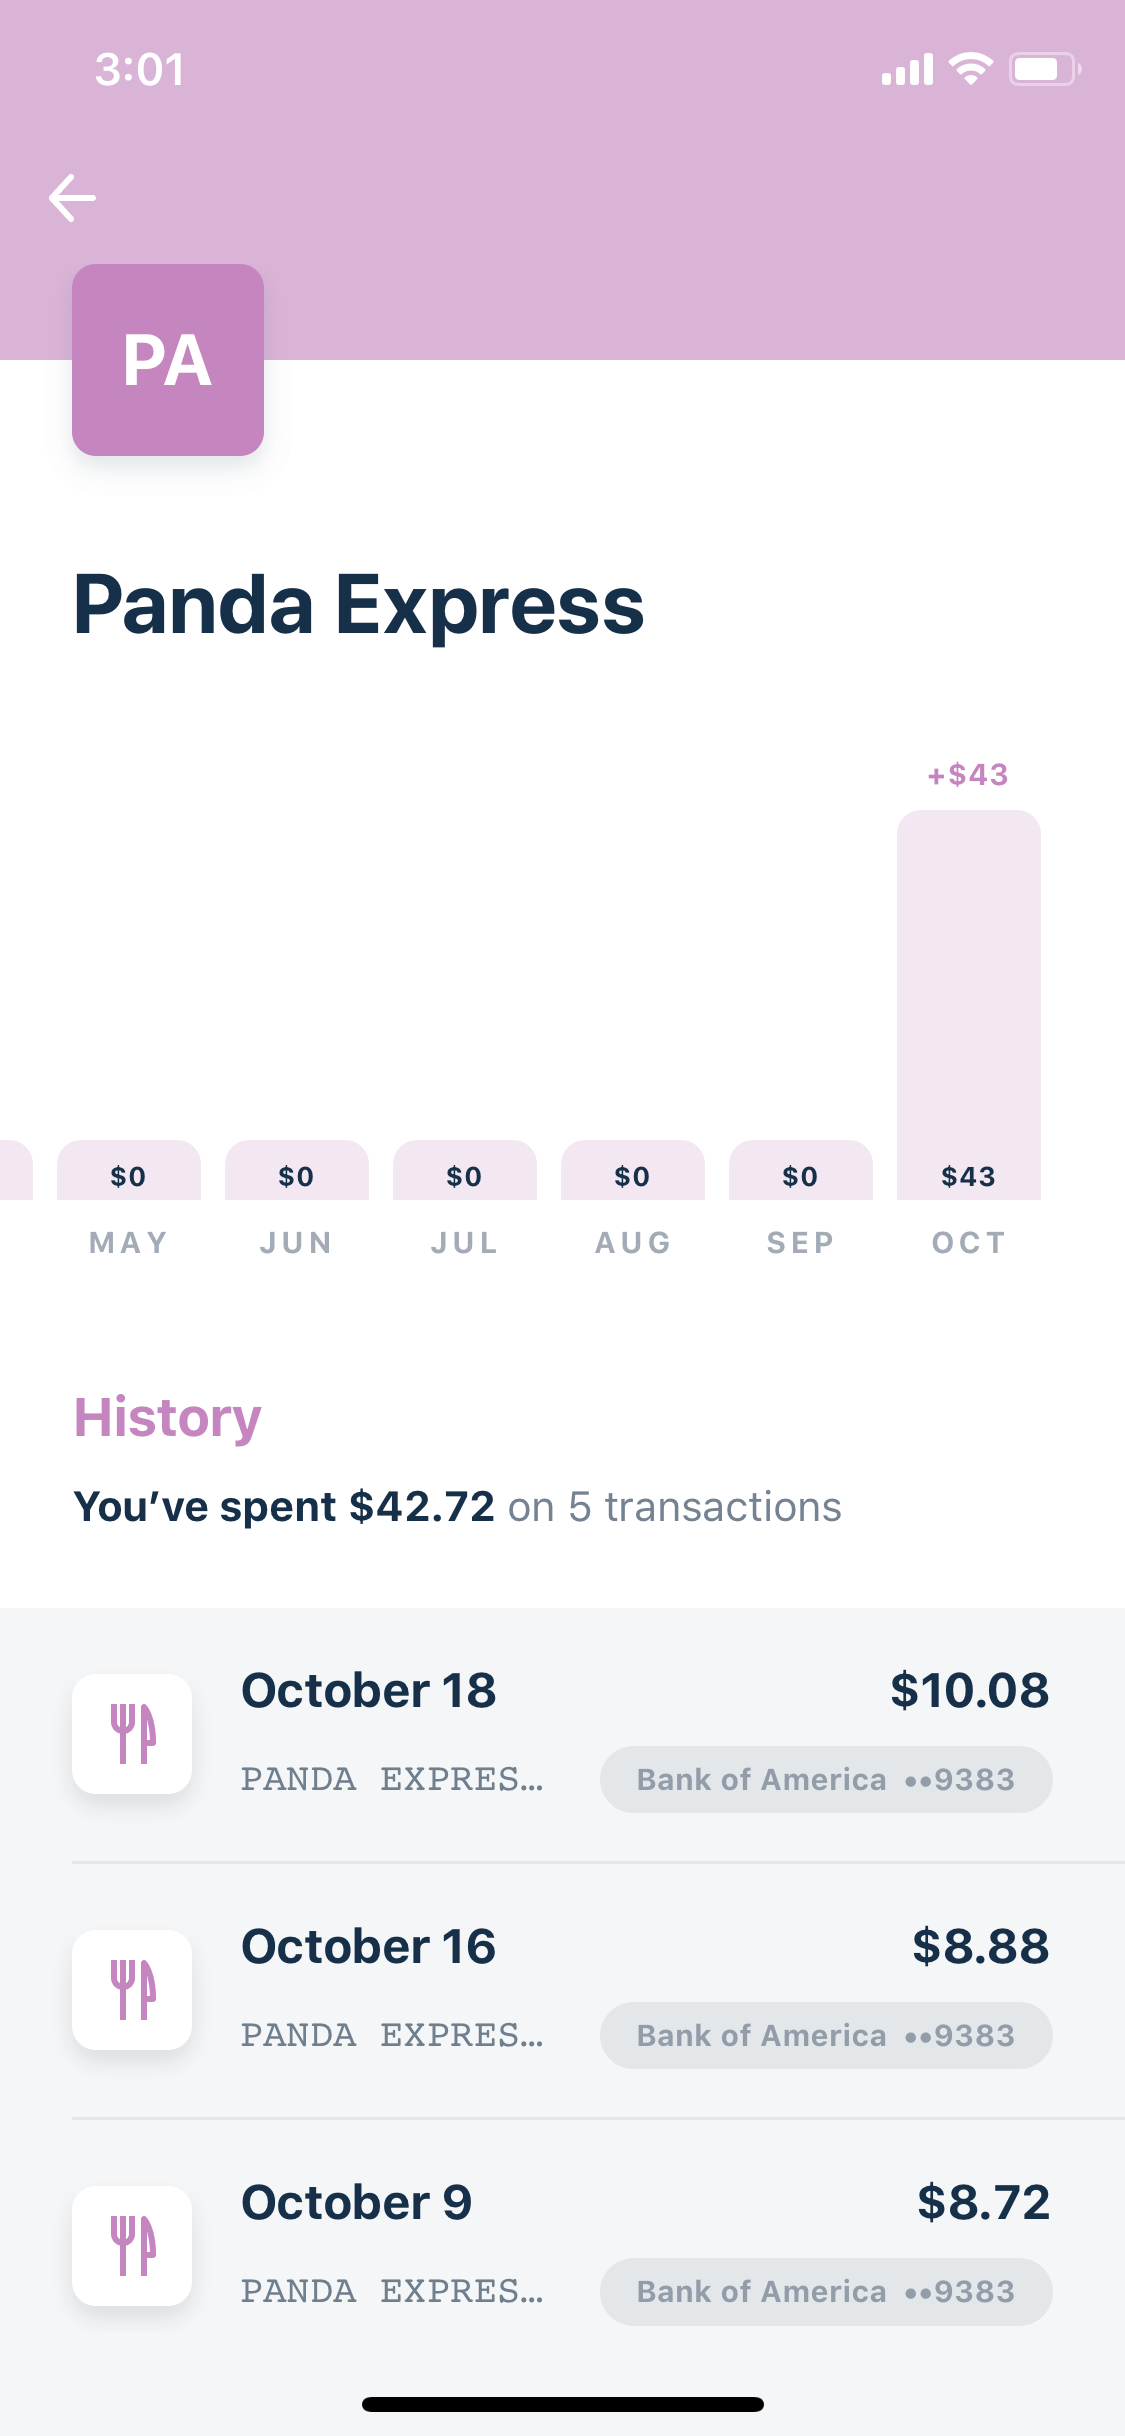Buttons: (9, 129, 134, 256)
